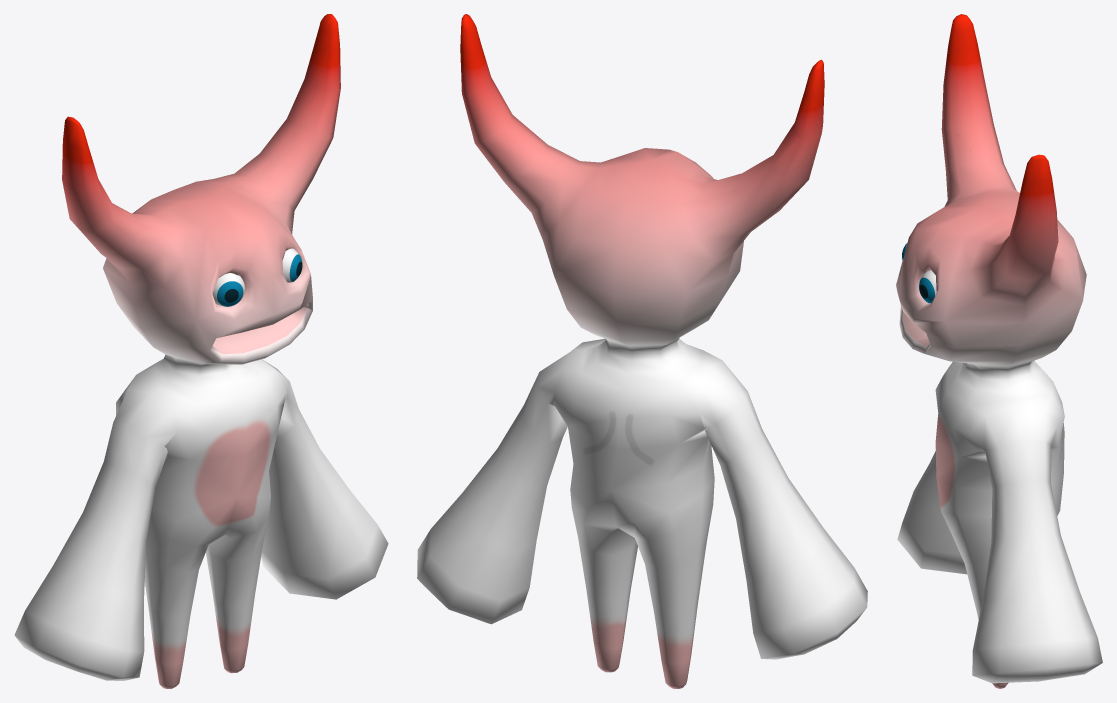
The model's file is frame8.obj.
3 views of the same model, side by side, from view 1: azimuth 30°, elevation 25°; view 2: azimuth 150°, elevation 25°; view 3: azimuth 270°, elevation 25° (orthographic). The views are drawn at different scales.
Visible parts, largest first — view 1: Body, Right_Eye; view 2: Body; view 3: Body, Left_Eye.
Boxes of the visible parts, x1,y1,x2,y2 form: Body: (14,14,388,688); Right_Eye: (212,273,244,306); Body: (417,14,867,688); Body: (896,14,1102,688); Left_Eye: (919,270,936,303).
Size of the model in its own units: 13.38 by 20.7 by 6.6.
